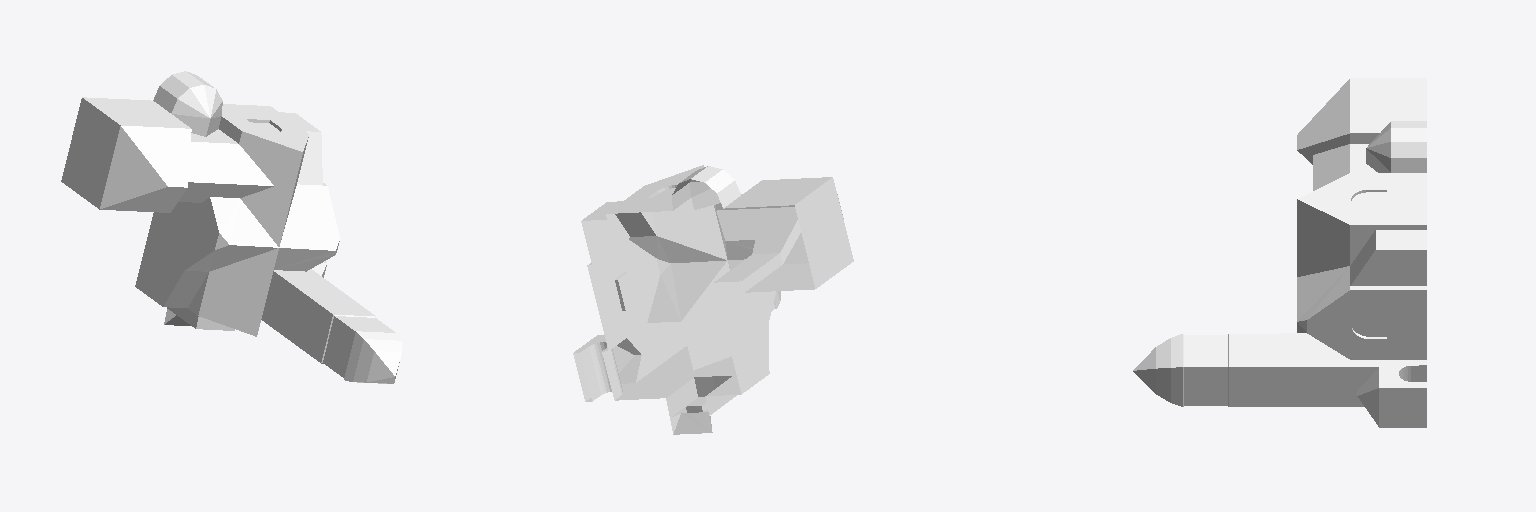
The model's file is DEU_602_KARLSRUHE_LUTHERK_S.OBJ.
3 renders of one model, left to right at view 1: azimuth 30°, elevation 25°; view 2: azimuth 150°, elevation 25°; view 3: azimuth 270°, elevation 25°, orthographic.
Visible parts, largest first — view 1: DEU_602_KARLSRUHE_LUTHERK_S; view 2: DEU_602_KARLSRUHE_LUTHERK_S; view 3: DEU_602_KARLSRUHE_LUTHERK_S.
Boxes of the visible parts, <box> form: DEU_602_KARLSRUHE_LUTHERK_S: <box>61,71,401,383</box>; DEU_602_KARLSRUHE_LUTHERK_S: <box>573,165,853,434</box>; DEU_602_KARLSRUHE_LUTHERK_S: <box>1133,78,1426,427</box>.
Bounding box in the file's own units: 46.63 × 47.77 × 49.12.